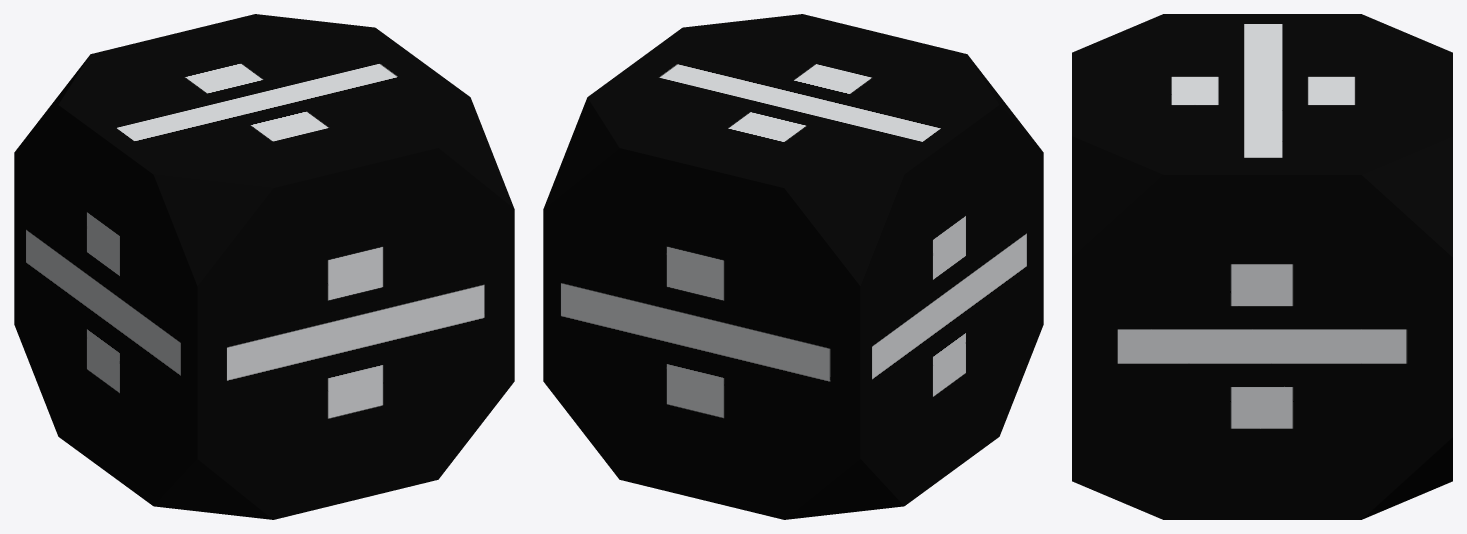
The model's file is BlockBase - Divide.fbx.
The picture shows the model from 3 angles, left to right: view 1: azimuth 30°, elevation 25°; view 2: azimuth 150°, elevation 25°; view 3: azimuth 270°, elevation 25°; orthographic projection. The views are drawn at different scales.
Parts seen in each view (by area): view 1: Cube.012; view 2: Cube.012; view 3: Cube.012.
Boxes of the visible parts, x1=… form: Cube.012: x1=14, y1=14, x2=514, y2=519; Cube.012: x1=543, y1=14, x2=1043, y2=519; Cube.012: x1=1072, y1=14, x2=1452, y2=519.
Bounding box in the file's own units: 50 × 50 × 50.
1 material, 1 textured.
